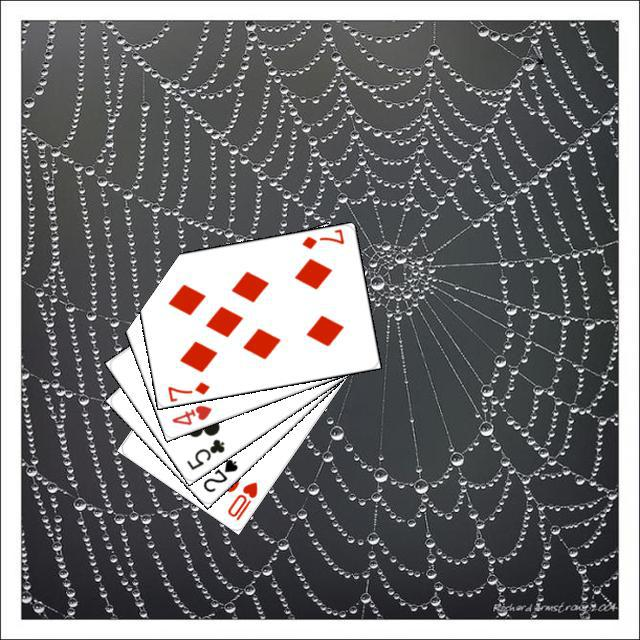10h: (222, 477, 259, 522)
2s: (198, 454, 240, 494)
4h: (167, 400, 213, 427)
5c: (182, 434, 226, 472)
7d: (162, 377, 211, 402), (297, 225, 346, 250)
